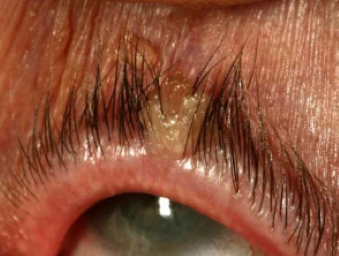seborrheic keratosis: (90, 33, 230, 169)
